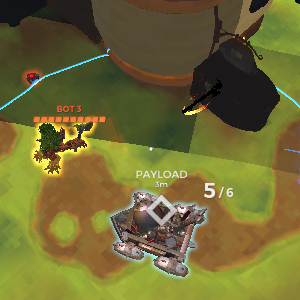model: (32, 127, 89, 174)
